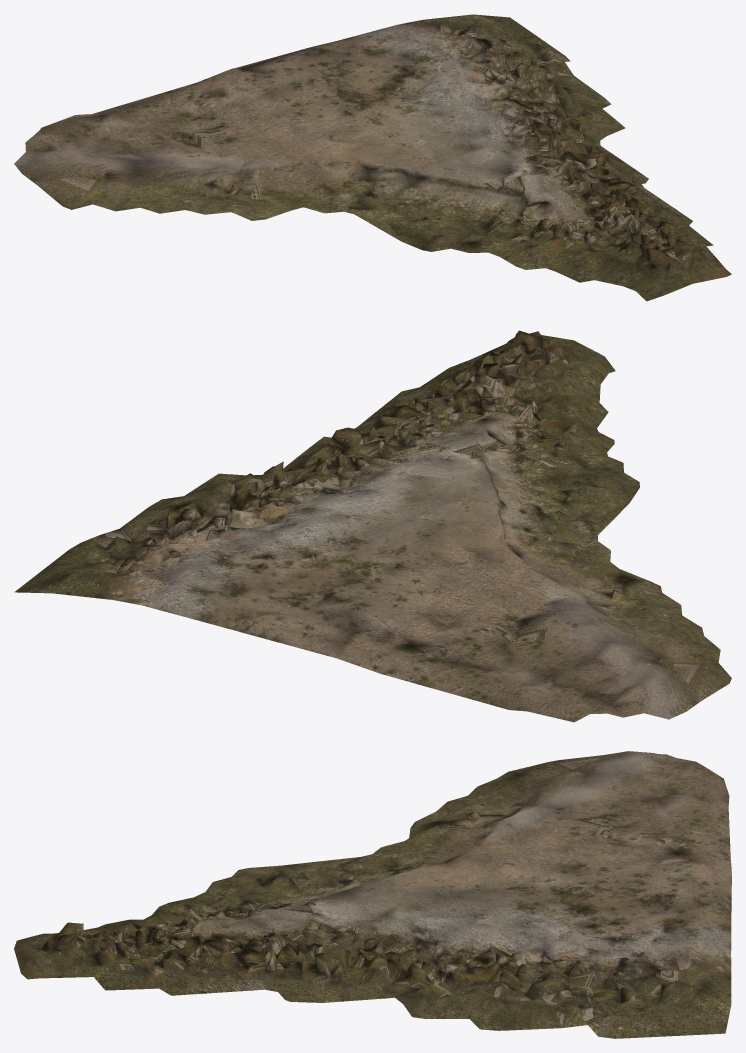
File: coast.glb
The picture shows the model from 3 angles, top to bottom: view 1: azimuth 30°, elevation 25°; view 2: azimuth 150°, elevation 25°; view 3: azimuth 270°, elevation 25°; orthographic projection. The views are drawn at different scales.
Visible parts, largest first — view 1: coast_rocks_02; view 2: coast_rocks_02; view 3: coast_rocks_02.
Boxes of the visible parts, box(x1,y1,x2,y2) form: coast_rocks_02: box(14, 14, 731, 301); coast_rocks_02: box(14, 330, 731, 722); coast_rocks_02: box(14, 751, 731, 1038).
Bounding box in the file's own units: 45.96 × 2.96 × 49.38.
Materials: 1 (1 with a texture image).
